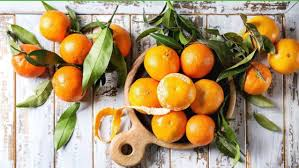orange: (147, 105, 187, 143), (47, 66, 88, 103), (157, 71, 195, 110), (237, 17, 279, 51), (266, 35, 299, 76), (143, 44, 181, 79), (189, 77, 224, 115), (10, 42, 46, 78), (96, 20, 131, 56), (237, 61, 271, 97), (180, 42, 215, 76), (128, 76, 163, 110), (183, 112, 216, 148), (38, 8, 69, 40), (61, 32, 93, 63)
